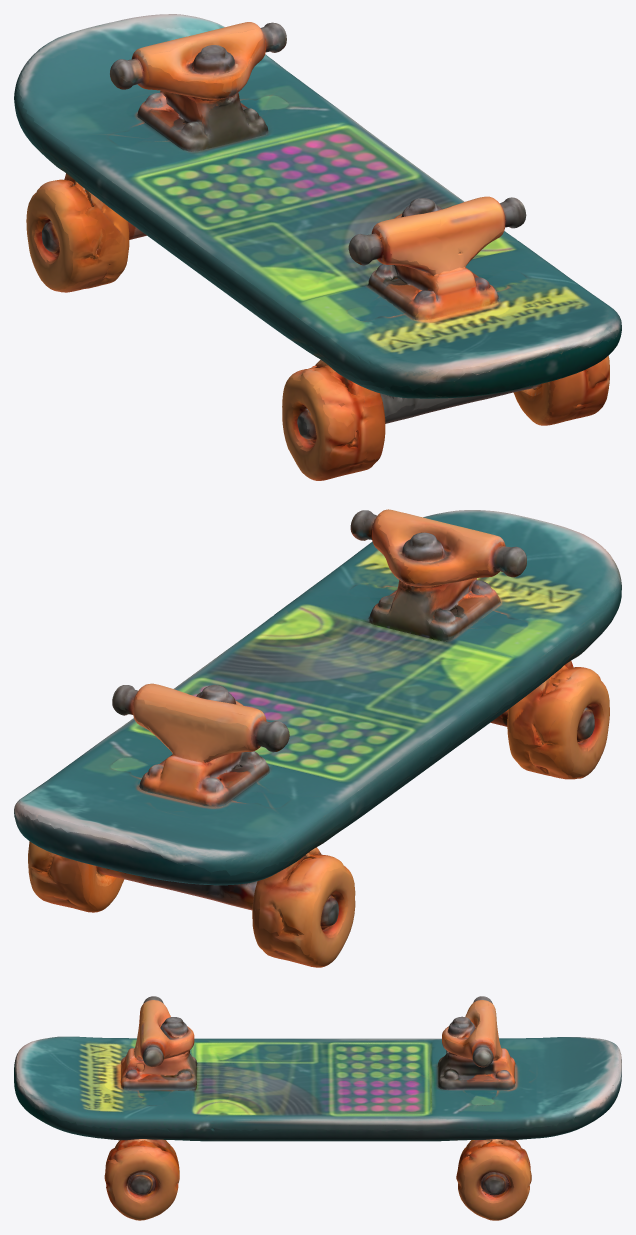
Rendered from u_prp_skateboard.glb.
3 views of the same model, one above another, from view 1: azimuth 30°, elevation 25°; view 2: azimuth 150°, elevation 25°; view 3: azimuth 270°, elevation 25° (orthographic). The views are drawn at different scales.
Parts seen in each view (by area): view 1: geometry_0; view 2: geometry_0; view 3: geometry_0.
Boxes of the visible parts, x1,y1,x2,y2 form: geometry_0: [14, 14, 621, 480]; geometry_0: [14, 509, 621, 967]; geometry_0: [14, 996, 621, 1220].
Size of the model in its own units: 0.78 by 0.5889 by 2.06.
Materials: 1 (1 with a texture image).
